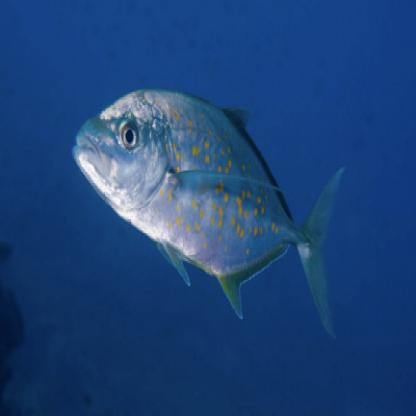Carangidae -Jacks-: (70, 64, 347, 347)
